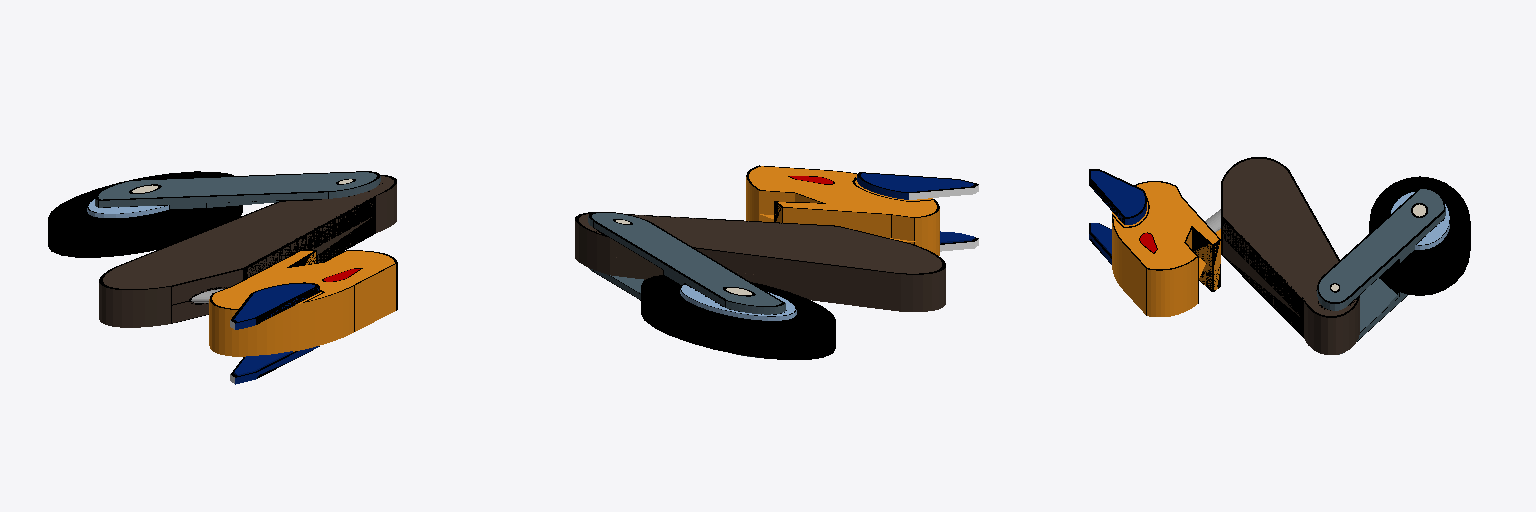
3 renders of one model, left to right at view 1: azimuth 30°, elevation 25°; view 2: azimuth 150°, elevation 25°; view 3: azimuth 270°, elevation 25°, orthographic.
Parts seen in each view (by area): view 1: Mesh2 Group1 Model, Mesh3 Group1 Model, Mesh1 Group1 Model; view 2: Mesh2 Group1 Model, Mesh3 Group1 Model, Mesh1 Group1 Model; view 3: Mesh2 Group1 Model, Mesh3 Group1 Model, Mesh1 Group1 Model.
Boxes of the visible parts, x1,y1,x2,y2 form: Mesh2 Group1 Model: [48, 171, 397, 356]; Mesh3 Group1 Model: [230, 282, 319, 329]; Mesh1 Group1 Model: [230, 346, 319, 384]; Mesh2 Group1 Model: [575, 165, 945, 359]; Mesh3 Group1 Model: [857, 172, 978, 199]; Mesh1 Group1 Model: [940, 231, 978, 251]; Mesh2 Group1 Model: [1112, 157, 1470, 354]; Mesh3 Group1 Model: [1089, 169, 1146, 224]; Mesh1 Group1 Model: [1089, 223, 1111, 264].
Size of the model in its own units: 5.12 by 0.9027 by 5.12.
11 materials, 6 textured.